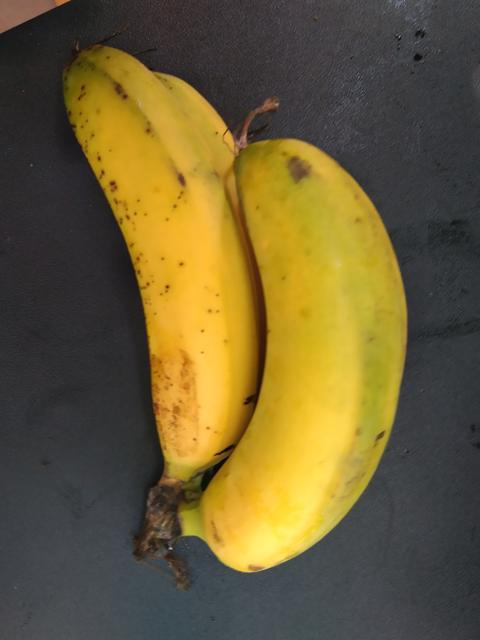freshripe: (208, 123, 421, 592)
ripe: (55, 43, 257, 488)
